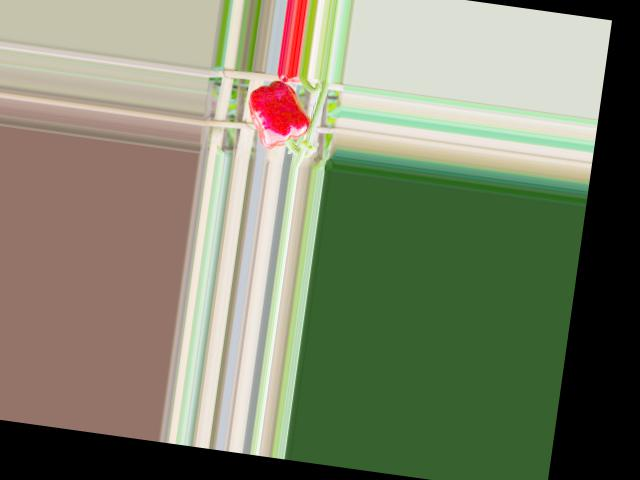bell_pepper: (237, 77, 320, 155)
